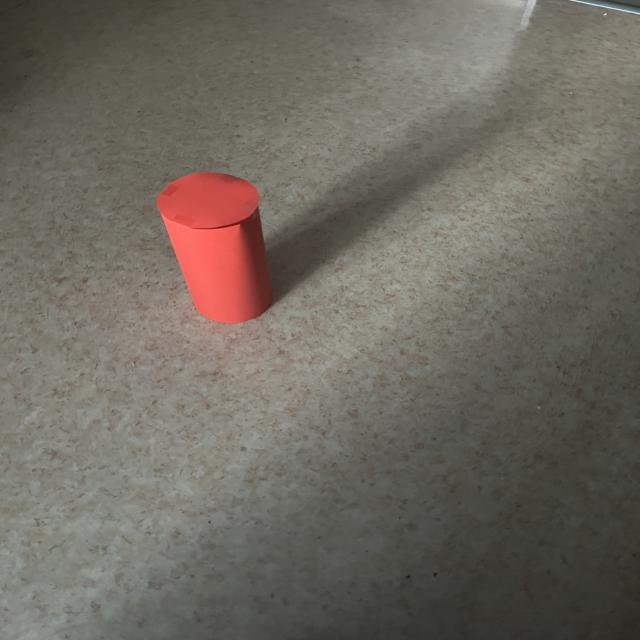przeszkoda: (157, 173, 272, 323)
